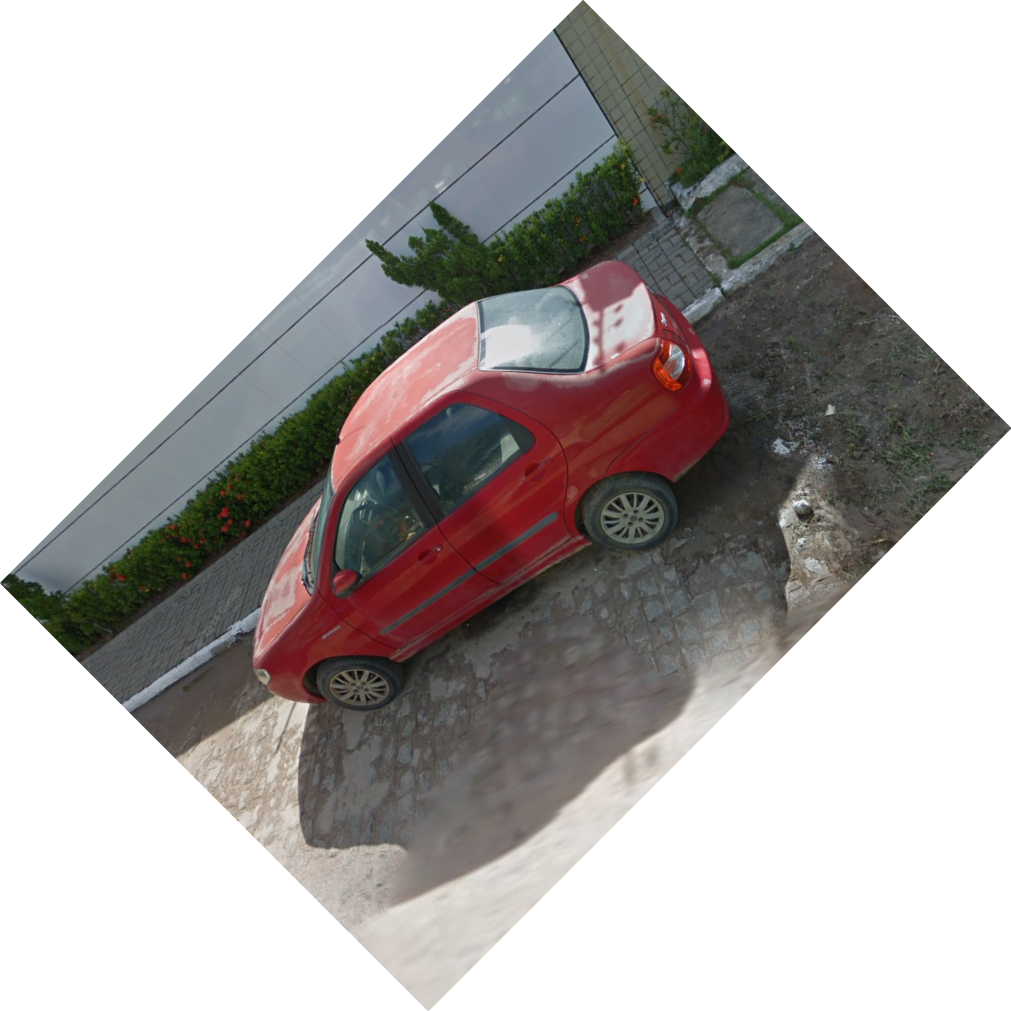car: (245, 252, 733, 715)
